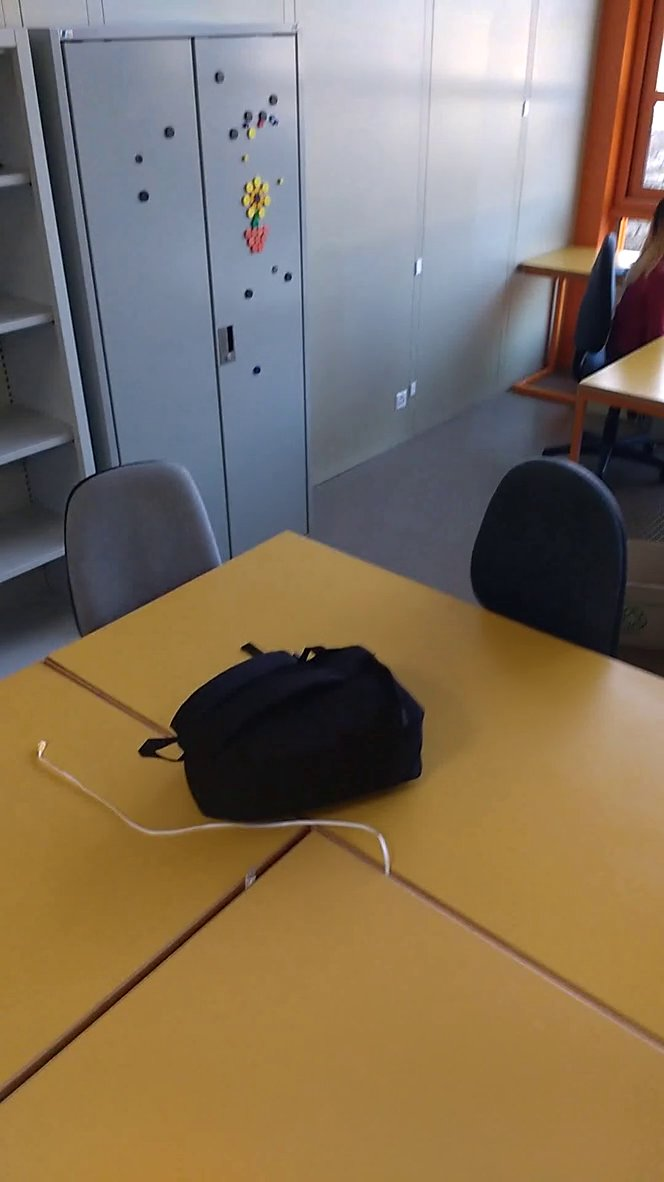bag: (126, 640, 468, 824)
chair: (454, 448, 664, 696), (41, 442, 244, 647)
